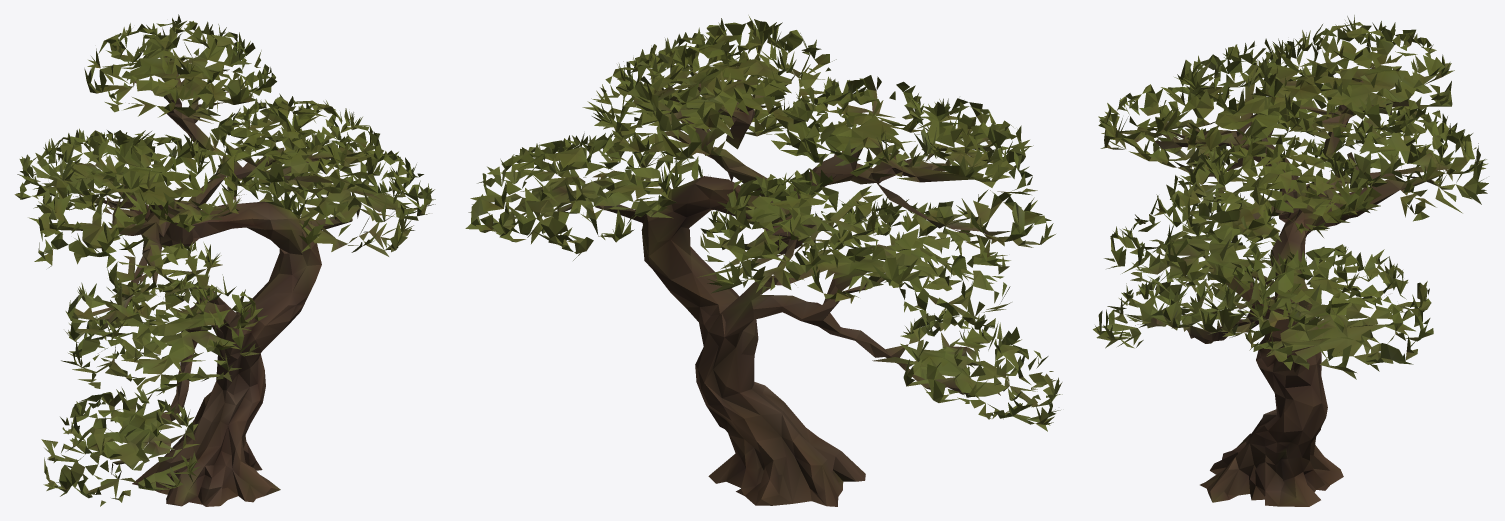
Rendered from lib_tp_kuromatsu.vc.glb.
3 views of the same model, side by side, from view 1: azimuth 30°, elevation 25°; view 2: azimuth 150°, elevation 25°; view 3: azimuth 270°, elevation 25° (orthographic). The views are drawn at different scales.
Visible parts, largest first — view 1: lib_tp_kuromatsu; view 2: lib_tp_kuromatsu; view 3: lib_tp_kuromatsu.
Boxes of the visible parts, left/top/right/bottom form: lib_tp_kuromatsu: left=14, top=14, right=435, bottom=506; lib_tp_kuromatsu: left=465, top=15, right=1062, bottom=506; lib_tp_kuromatsu: left=1093, top=15, right=1488, bottom=506.
Size of the model in its own units: 1.89 by 1.72 by 1.37.
